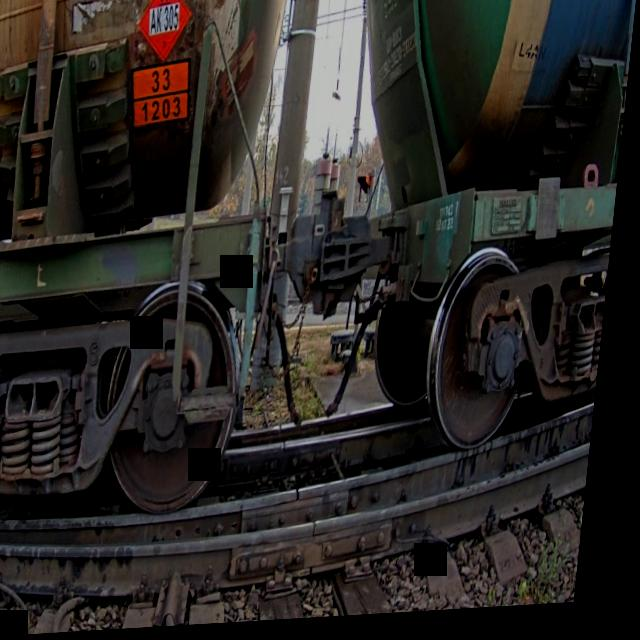tank: (0, 0, 306, 539), (316, 0, 640, 493)
